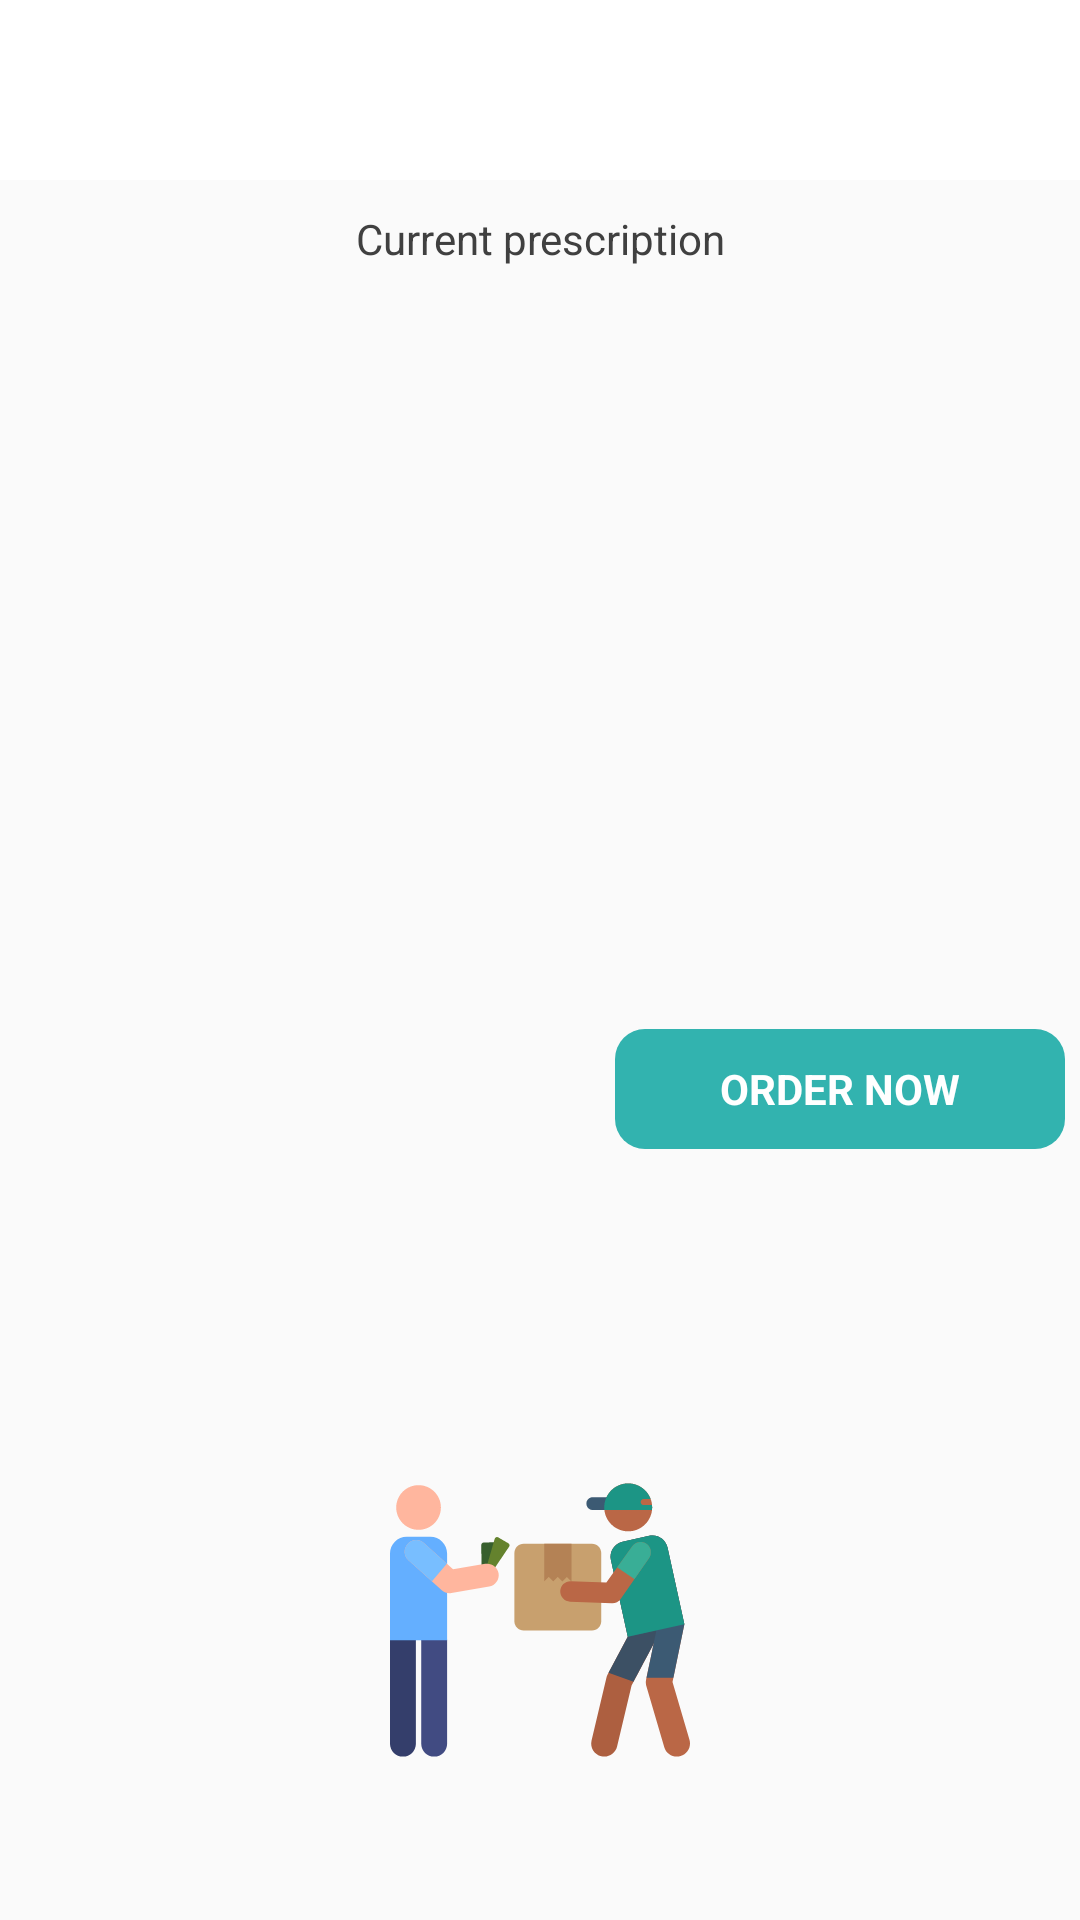

Screen size 1080w x 1920h. Icon name, then its center in pixels as (x=x, y=y):
order: (x=540, y=1620)
